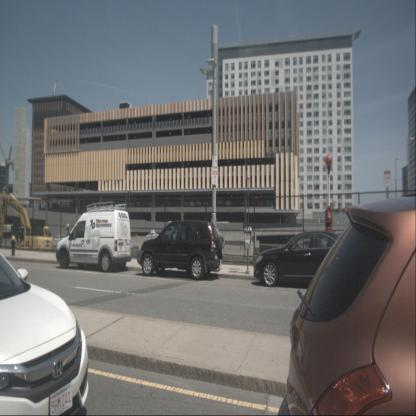vehicle-car: (286, 197, 416, 415), (0, 251, 90, 415), (254, 230, 361, 288), (136, 219, 224, 280), (56, 211, 132, 272), (54, 235, 68, 243), (146, 232, 160, 240)
